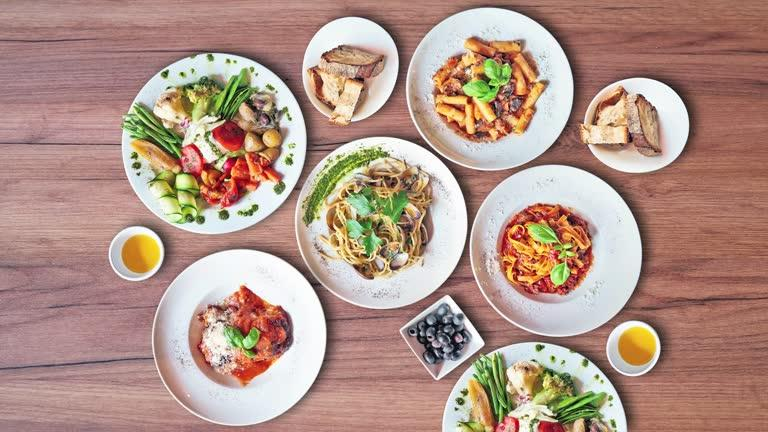Braised Crucian Carp: (114, 45, 308, 240), (146, 247, 328, 432), (470, 164, 640, 337), (294, 135, 463, 309), (405, 7, 569, 174), (301, 16, 399, 125), (582, 77, 688, 173)
